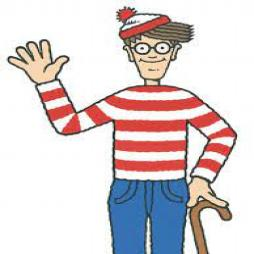wally: (3, 2, 239, 254)
